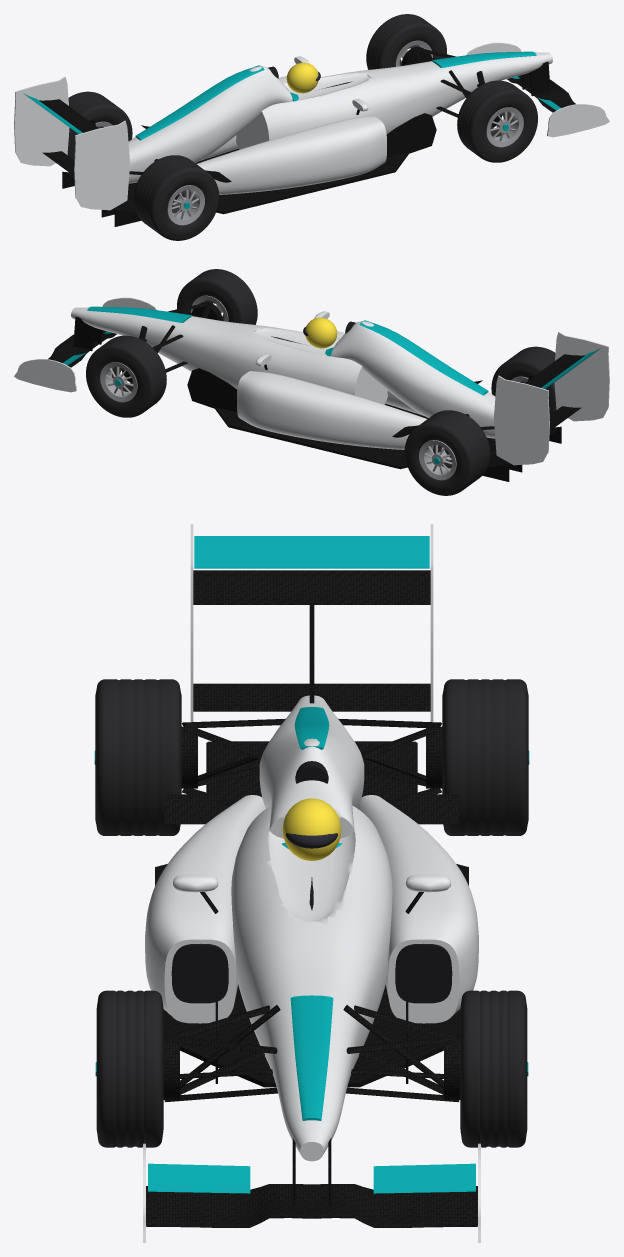
The picture shows the model from 3 angles, top to bottom: view 1: azimuth 30°, elevation 25°; view 2: azimuth 150°, elevation 25°; view 3: azimuth 270°, elevation 25°; orthographic projection. The views are drawn at different scales.
Parts seen in each view (by area): view 1: Chassis, RearWing, Sidepod_R, EngineCover, Tyre_RR, Tyre_FR, FrontWing, Tyre_FL, Floor, Tyre_RL, Bargeboard_R, Cover_Stripe (+4 smaller); view 2: Chassis, RearWing, Sidepod_L, EngineCover, Tyre_RL, Tyre_FL, FrontWing, Tyre_FR, Floor, Tyre_RR, Bargeboard_L, Cover_Stripe (+4 smaller); view 3: Chassis, FrontWing, RearWing, Tyre_RL, Tyre_RR, Sidepod_L, Sidepod_R, Tyre_FL, Tyre_FR, Suspension_Front, EngineCover, RearWing_Flap (+14 smaller).
Boxes of the visible parts, bbox=[...] form: Chassis: bbox=[236, 52, 552, 149]; RearWing: bbox=[14, 77, 129, 210]; Sidepod_R: bbox=[197, 116, 386, 194]; EngineCover: bbox=[128, 66, 292, 183]; Tyre_RR: bbox=[133, 155, 219, 240]; Tyre_FR: bbox=[457, 80, 537, 162]; FrontWing: bbox=[466, 42, 609, 137]; Tyre_FL: bbox=[366, 14, 446, 69]; Floor: bbox=[174, 148, 408, 214]; Tyre_RL: bbox=[67, 91, 132, 159]; Bargeboard_R: bbox=[386, 113, 436, 157]; Cover_Stripe: bbox=[135, 65, 264, 140]; Chassis: bbox=[71, 307, 387, 404]; RearWing: bbox=[494, 332, 609, 465]; Sidepod_L: bbox=[237, 371, 426, 449]; EngineCover: bbox=[331, 321, 495, 438]; Tyre_RL: bbox=[404, 410, 490, 495]; Tyre_FL: bbox=[86, 335, 166, 417]; FrontWing: bbox=[14, 297, 157, 392]; Tyre_FR: bbox=[177, 269, 257, 324]; Floor: bbox=[215, 403, 449, 469]; Tyre_RR: bbox=[491, 346, 556, 414]; Bargeboard_L: bbox=[187, 368, 237, 412]; Cover_Stripe: bbox=[359, 320, 488, 395]; Chassis: bbox=[231, 805, 392, 1161]; FrontWing: bbox=[143, 1138, 480, 1242]; RearWing: bbox=[190, 524, 433, 722]; Tyre_RL: bbox=[442, 679, 529, 835]; Tyre_RR: bbox=[94, 679, 181, 835]; Sidepod_L: bbox=[358, 795, 478, 1023]; Sidepod_R: bbox=[145, 795, 265, 1023]; Tyre_FL: bbox=[460, 990, 528, 1147]; Tyre_FR: bbox=[95, 990, 163, 1147]; Suspension_Front: bbox=[164, 1005, 459, 1101]; EngineCover: bbox=[259, 695, 364, 838]; RearWing_Flap: bbox=[194, 536, 429, 568].
Bounding box in the file's own units: 5.08 × 1.04 × 1.83.
Materials: 11 (1 with a texture image).
